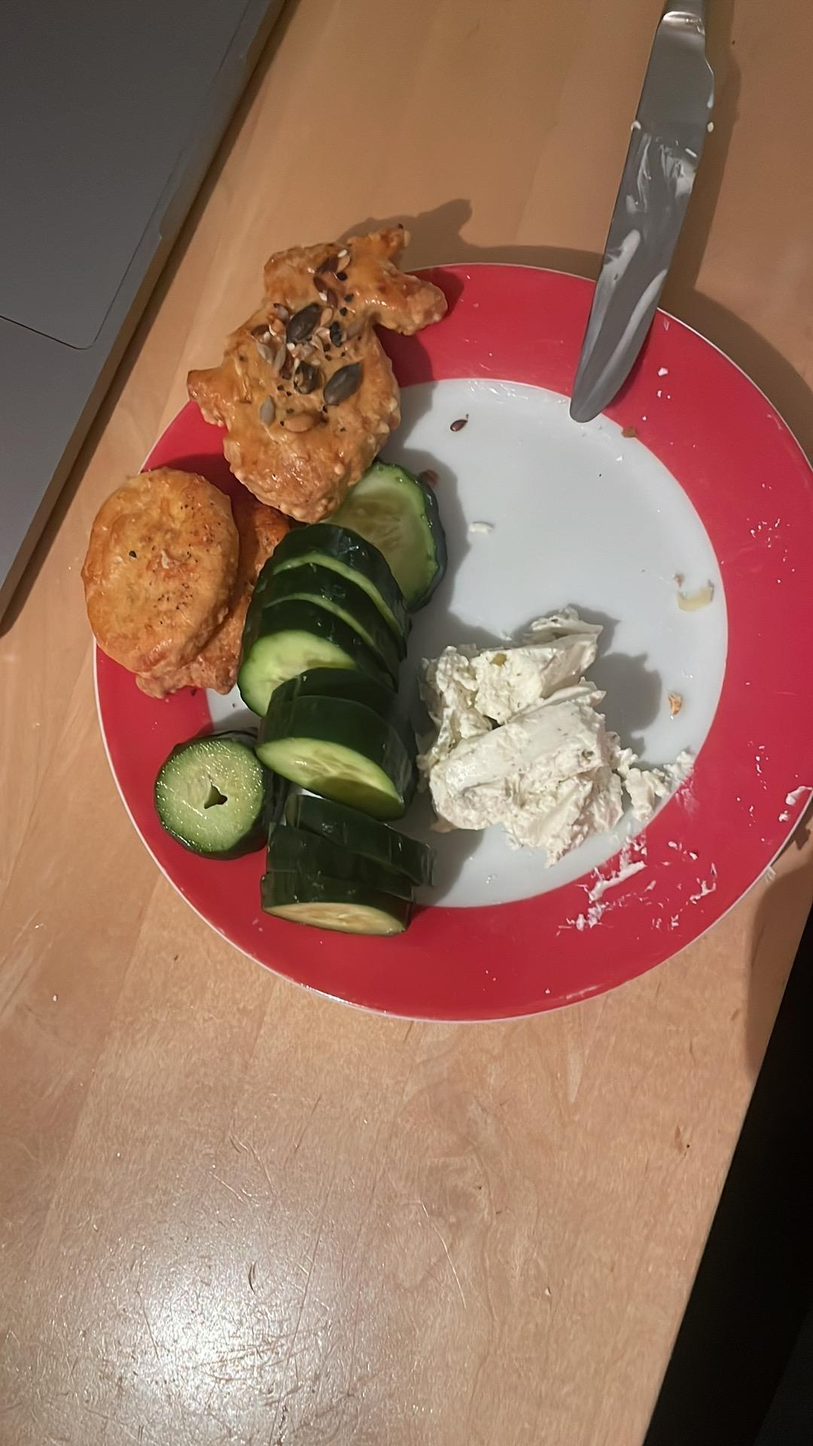cucumber: (260, 792, 428, 936), (262, 669, 413, 807), (259, 528, 412, 651), (147, 735, 267, 861), (339, 469, 447, 599), (239, 603, 365, 703)
